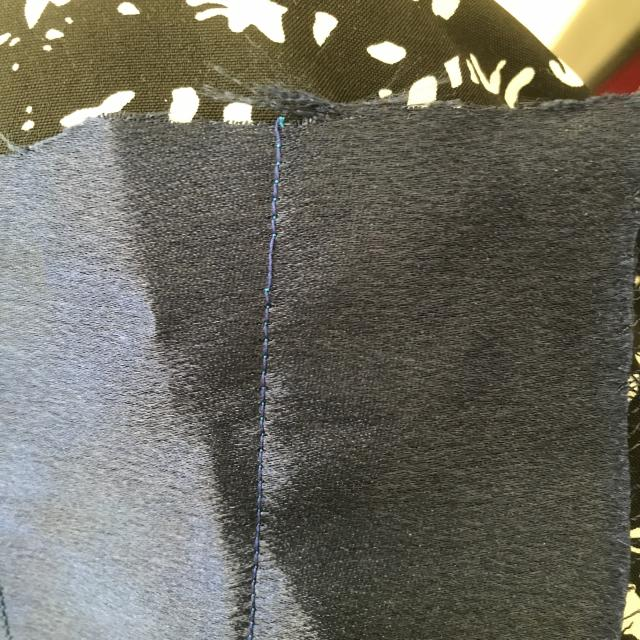skip: (248, 223, 295, 305)
